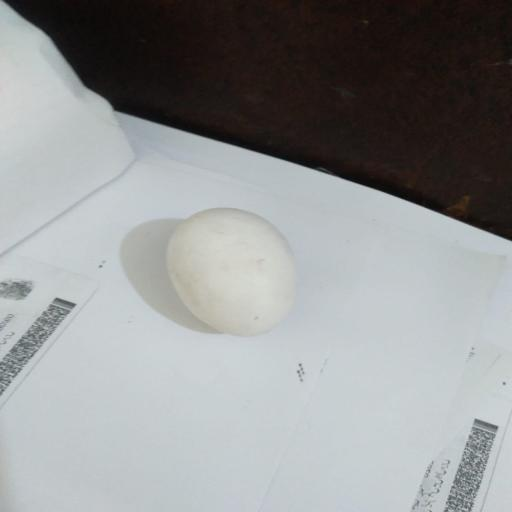telur: (159, 194, 293, 342)
